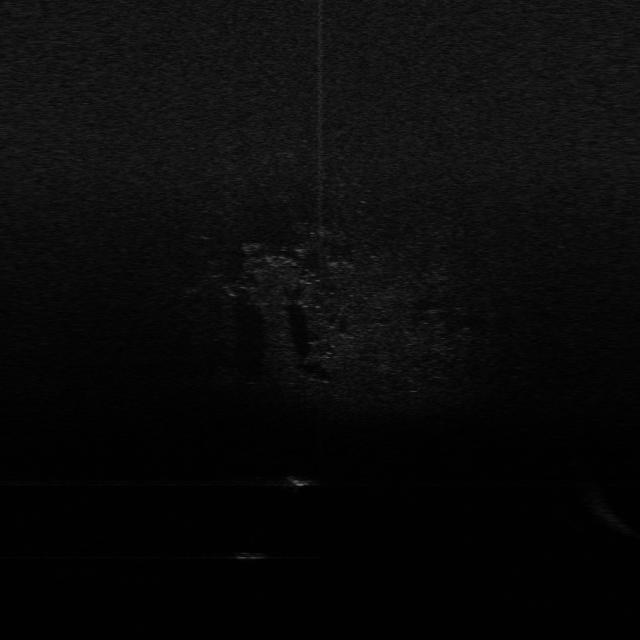cube: (230, 548, 270, 562)
square cage: (286, 474, 314, 490)
